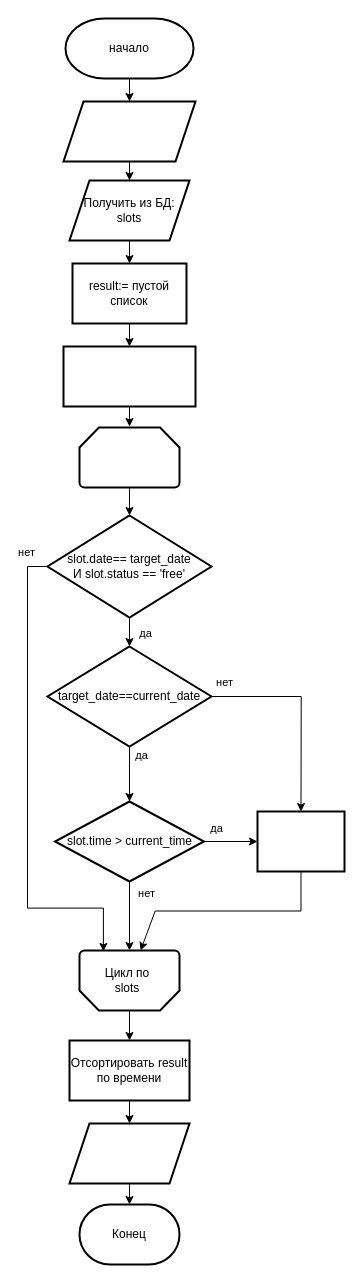
Some shapes in this 362 by 1282 pixel diagram are drawn without their labels. The shapes that lost their labels are listed below. From the top down, each one's box as (x1, y1, x2, y2) in pixels, then its label:
(62, 100, 196, 162): Ввод target_date
(62, 345, 196, 407): current_time:= текущее время current_date:=текущий день
(78, 426, 180, 488): Цикл по slots, пока slot есть в slots
(256, 810, 345, 872): Добавить slot в result
(68, 1122, 190, 1184): Вернуть result
